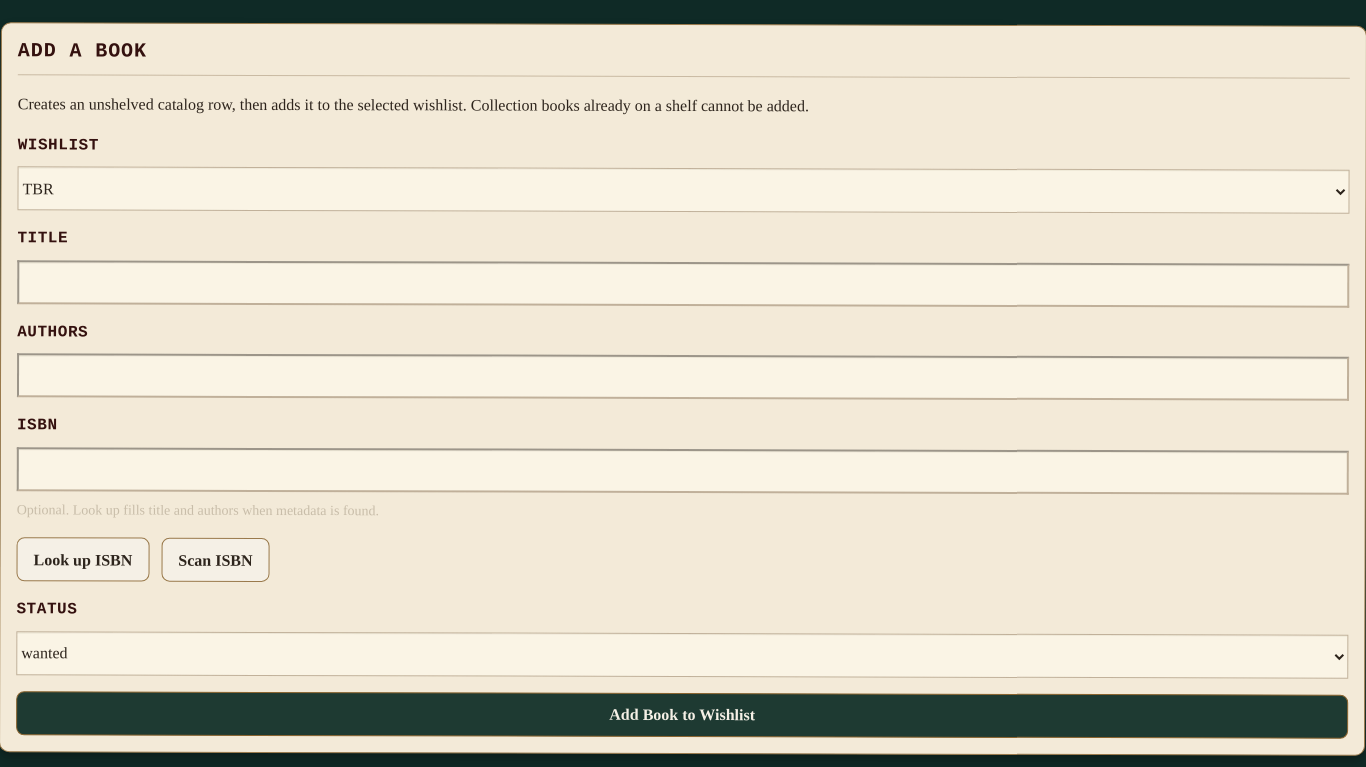
it: AddWishlistBookControl › surfaces 412 exclusivity errors without retrying with a shelf
Type "A Book" into the field labelled "Title".
click(683, 284); type("A Book")  # box [17,260,1349,308]
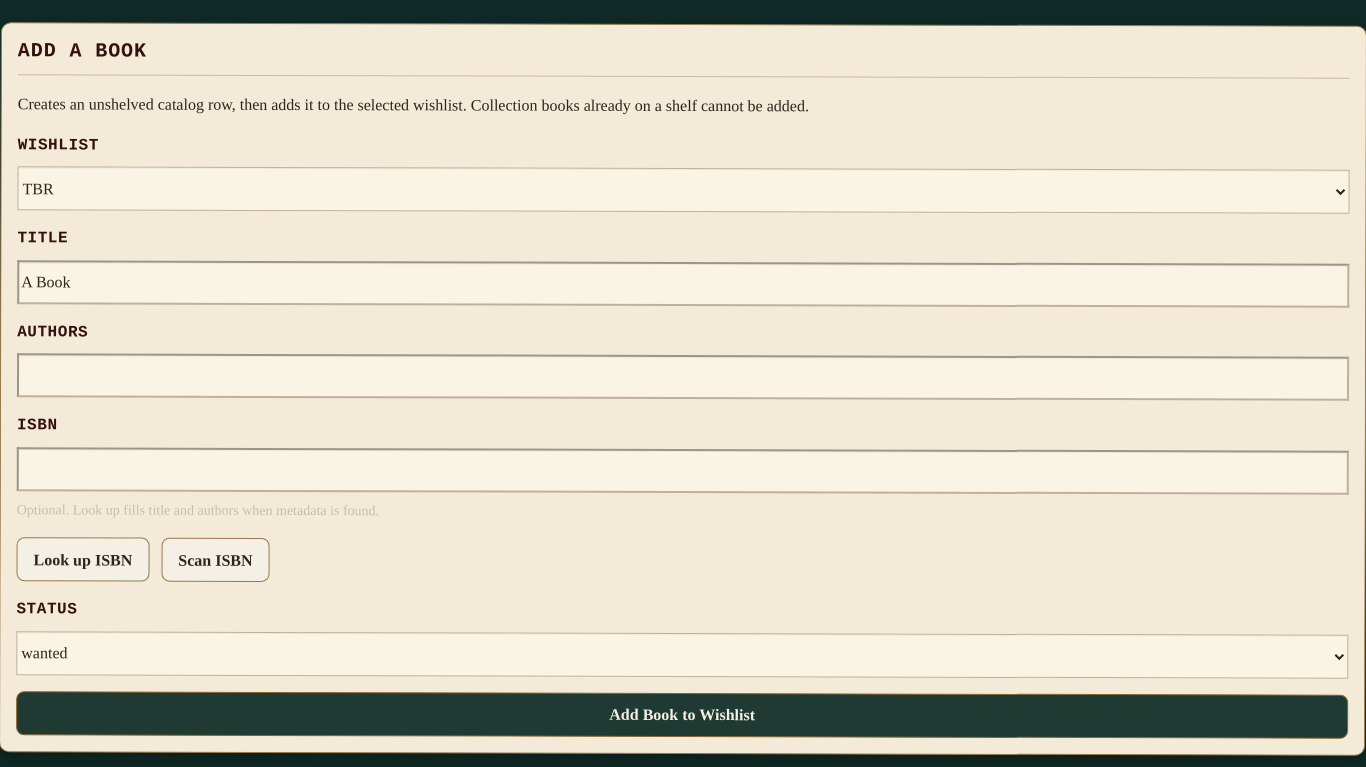
Type "An Author" into the field labelled "Authors".
click(683, 377); type("An Author")  # box [17,354,1349,401]
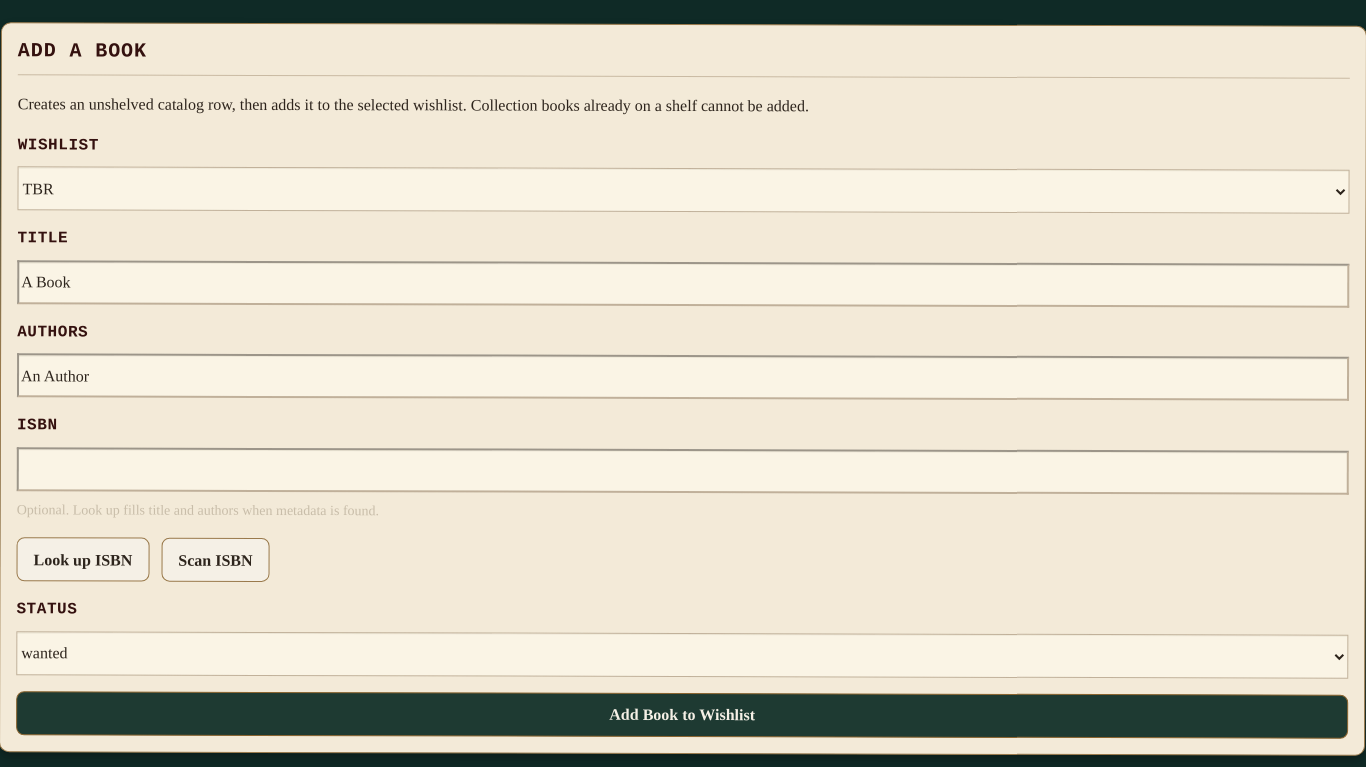
Click the button "Add Book to Wishlist".
click(682, 715)  # box [16,691,1348,739]
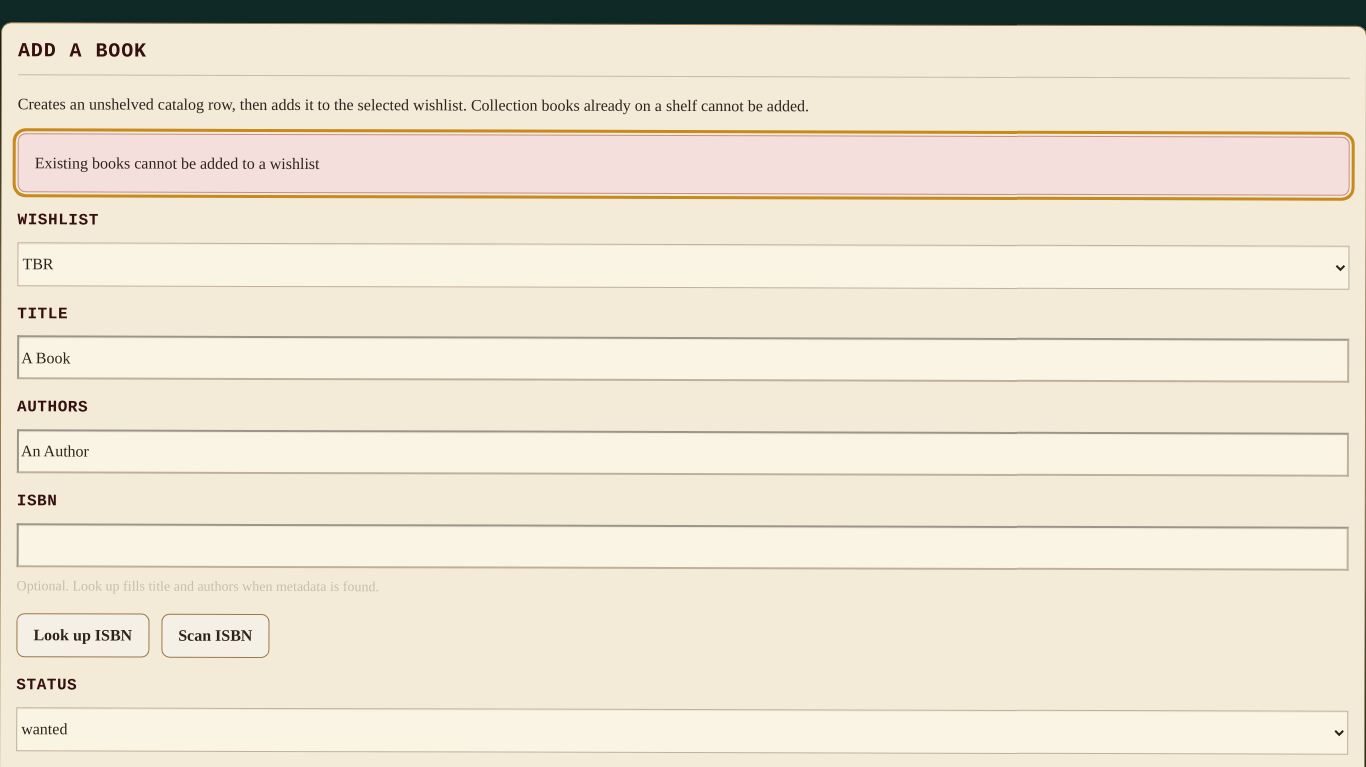
Expected: the message reads "Existing books cannot be added to a wishlist", [35,154,320,172]
